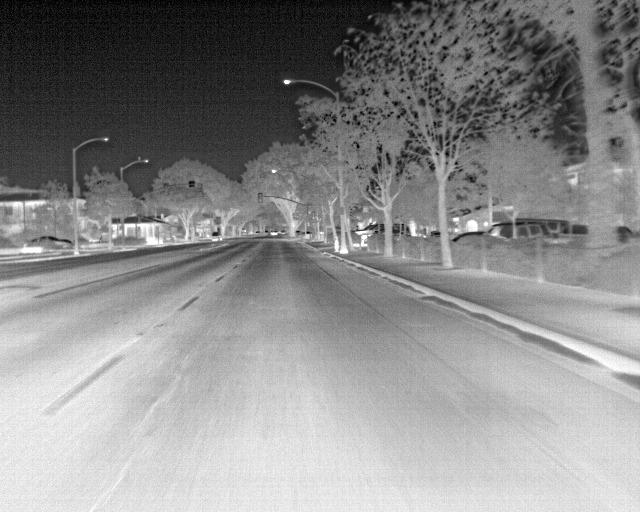car: (354, 222, 411, 245), (25, 236, 72, 251), (210, 232, 222, 241)
light: (258, 193, 263, 203), (307, 204, 312, 214), (197, 183, 203, 191), (164, 183, 168, 195)
sign: (73, 186, 80, 197), (189, 180, 195, 187), (215, 217, 221, 224), (339, 207, 344, 215)
